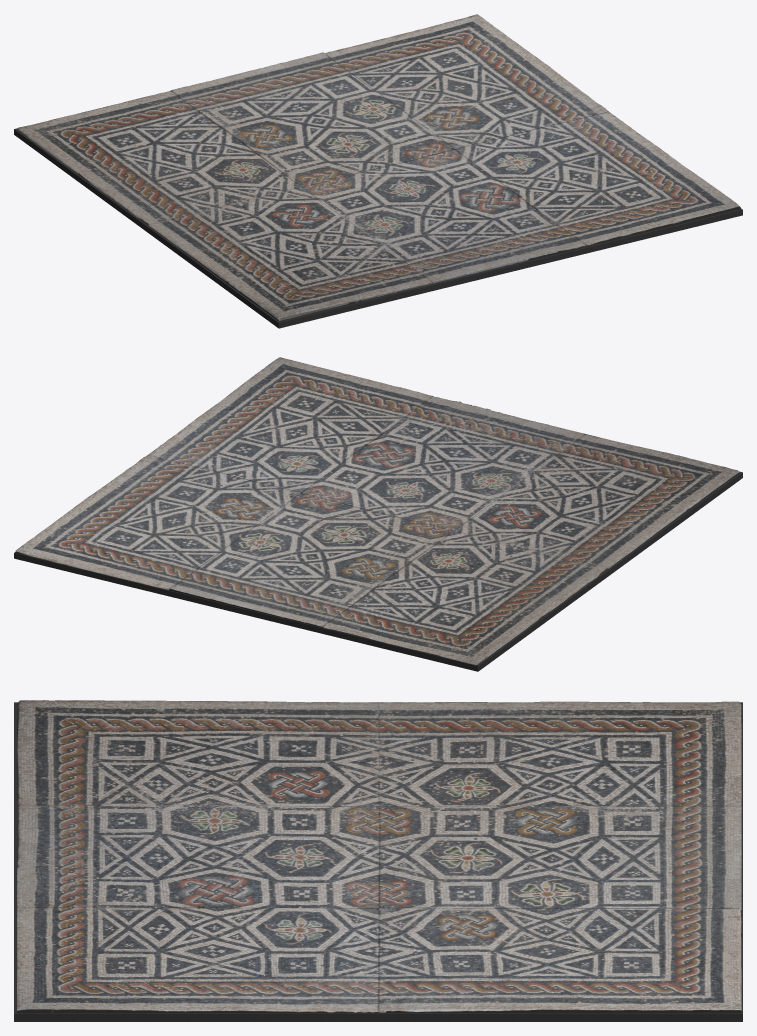
File: Mosaic_MP.obj
The picture shows the model from 3 angles, top to bottom: view 1: azimuth 30°, elevation 25°; view 2: azimuth 150°, elevation 25°; view 3: azimuth 270°, elevation 25°; orthographic projection. The views are drawn at different scales.
Parts seen in each view (by area): view 1: Mosaic_MP; view 2: Mosaic_MP; view 3: Mosaic_MP.
Part boxes in pixels (x1=…): Mosaic_MP: x1=14, y1=14, x2=742, y2=328; Mosaic_MP: x1=14, y1=357, x2=742, y2=671; Mosaic_MP: x1=14, y1=700, x2=742, y2=1021.
Size of the model in its own units: 43.4 by 0.7891 by 42.9.
Materials: 1 (1 with a texture image).
